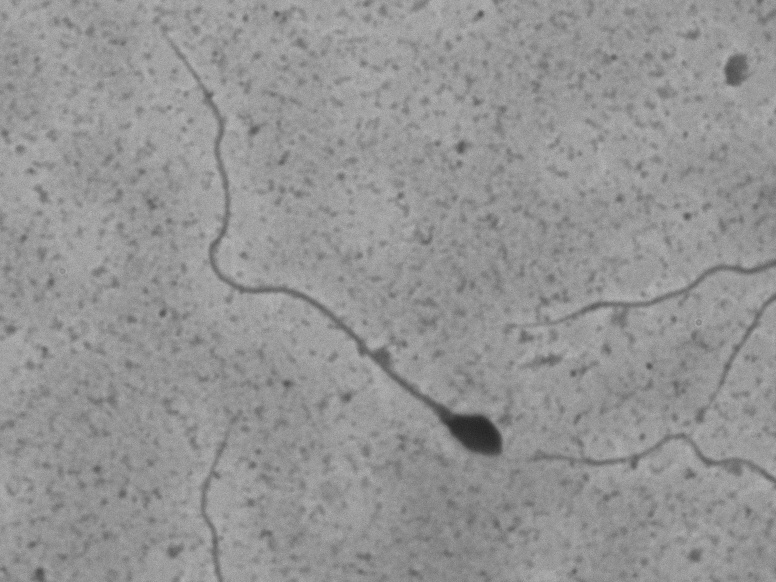Abnormal: (141, 14, 519, 471)
